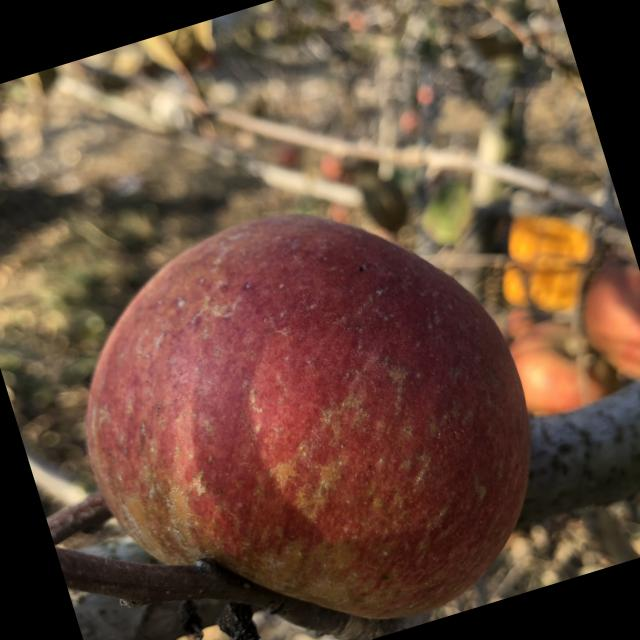fresh: (24, 144, 589, 640)
